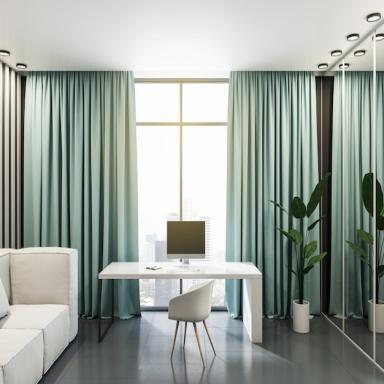glass_panel: (346, 60, 372, 342), (183, 129, 226, 288), (138, 127, 179, 269), (1, 59, 10, 246), (184, 83, 228, 121), (136, 83, 178, 121), (167, 222, 205, 262)
